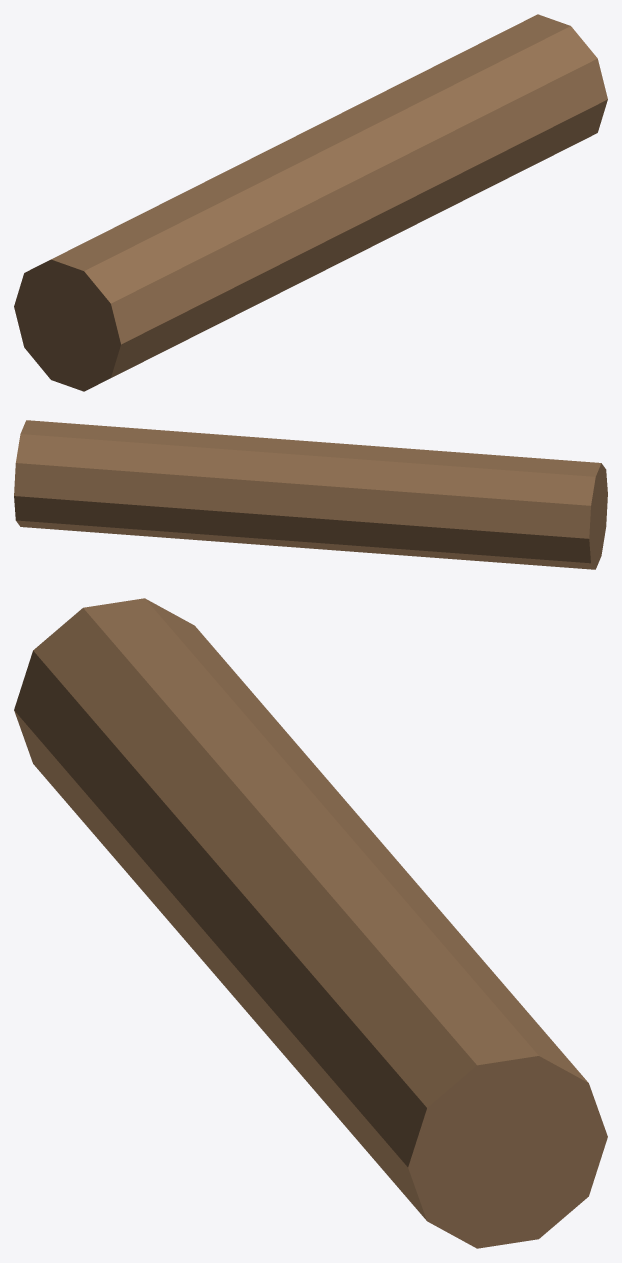
File: z1_tronco_1_lev1.glb
3 views of the same model, one above another, from view 1: azimuth 30°, elevation 25°; view 2: azimuth 150°, elevation 25°; view 3: azimuth 270°, elevation 25° (orthographic). The views are drawn at different scales.
Visible parts, largest first — view 1: z1_tronco_1_lev1; view 2: z1_tronco_1_lev1; view 3: z1_tronco_1_lev1.
Boxes of the visible parts, x1=… form: z1_tronco_1_lev1: x1=14, y1=14, x2=607, y2=391; z1_tronco_1_lev1: x1=14, y1=420, x2=607, y2=569; z1_tronco_1_lev1: x1=14, y1=598, x2=607, y2=1248.
Size of the model in its own units: 2.61 by 0.4565 by 1.34.
